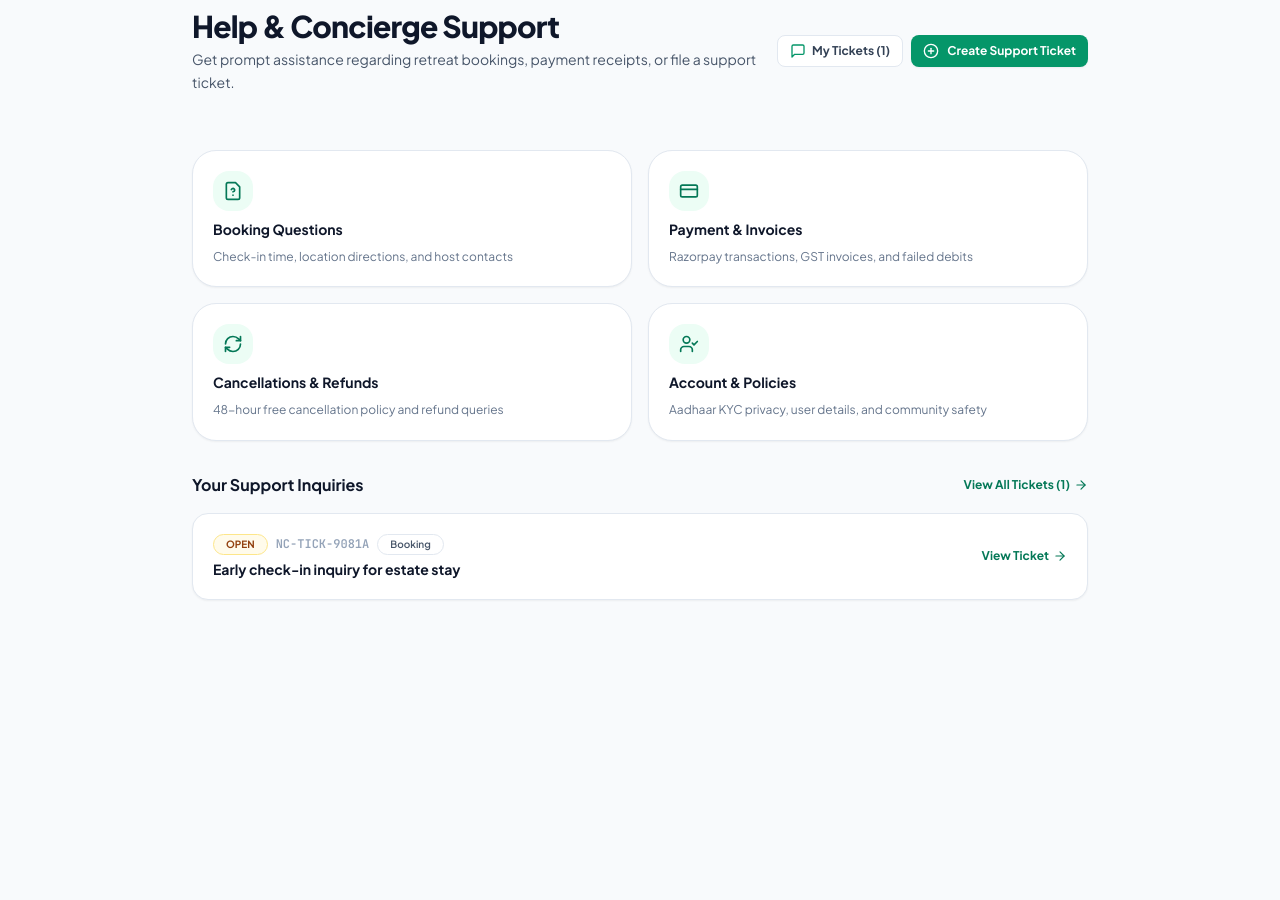
Customer Support & Tickets Suite › renders CustomerSupportHubPage and handles ticket creation
This screenshot has width=1280, height=900.
Expected: the heading "Help & Concierge Support" is shown, [192,7,559,45]
Expected: the heading "Booking Questions" is shown, [213,220,343,238]
// Toggle Create Support Ticket form
Click the button "Create Support Ticket".
click(1000, 51)  # box [911,35,1088,67]
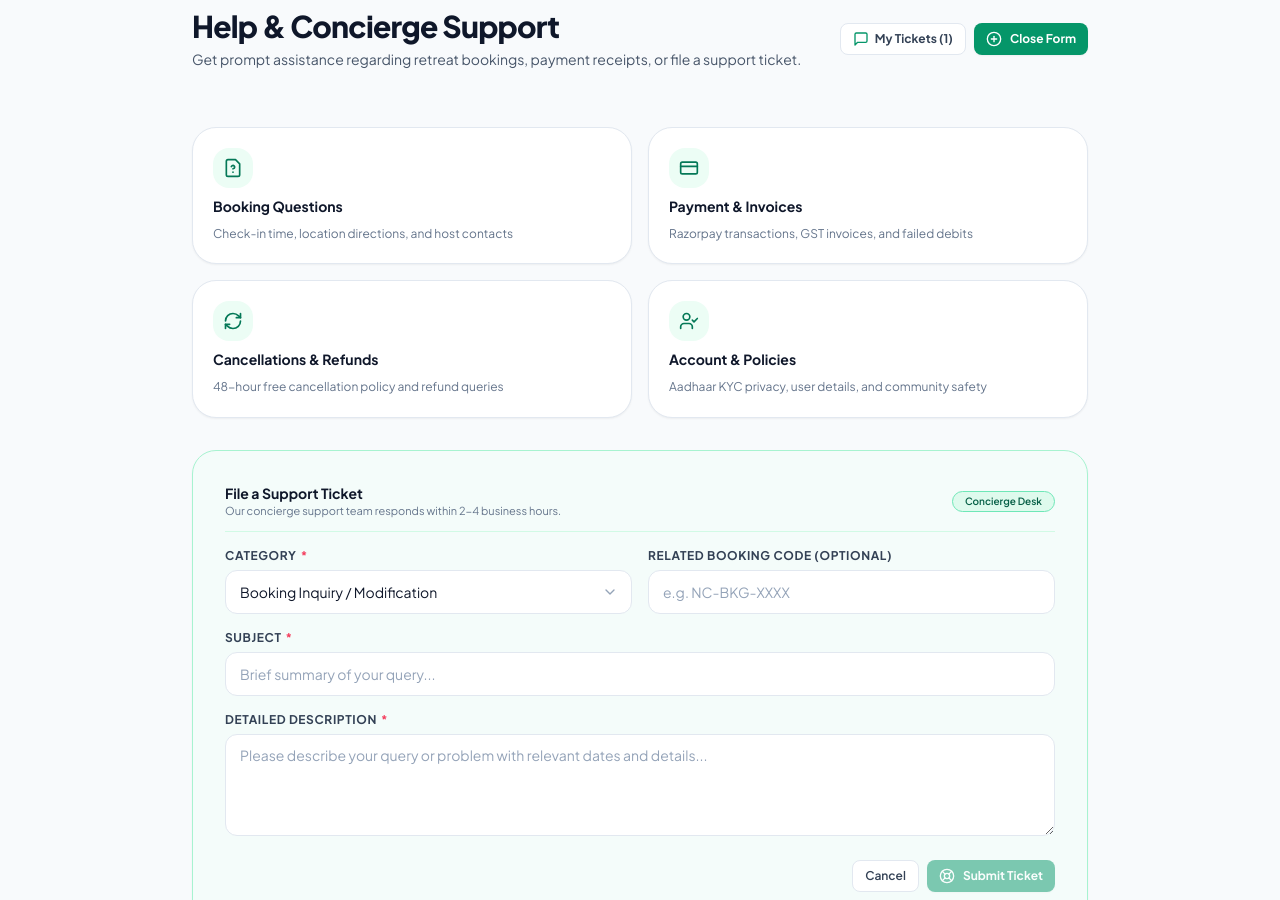
Type "WiFi speed in Heritage Cottage" into the field labelled "Subject*".
click(640, 674); type("WiFi speed in Heritage Cottage")  # box [225,652,1055,696]
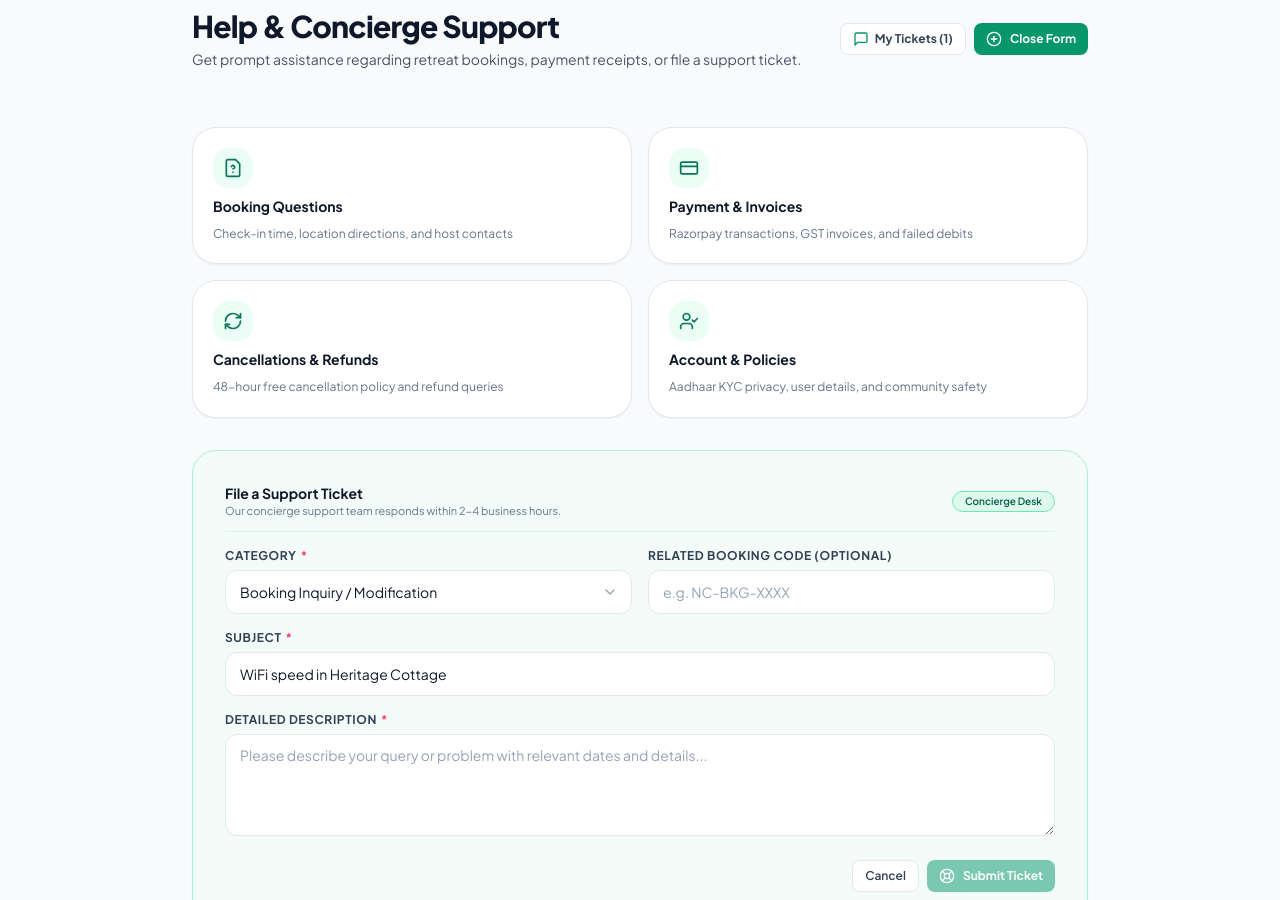
Replace the text in the text box labelled "Detailed Description*" with "Need high speed internet for remote work during stay." at coordinates (640, 785), box [225,734,1055,836]
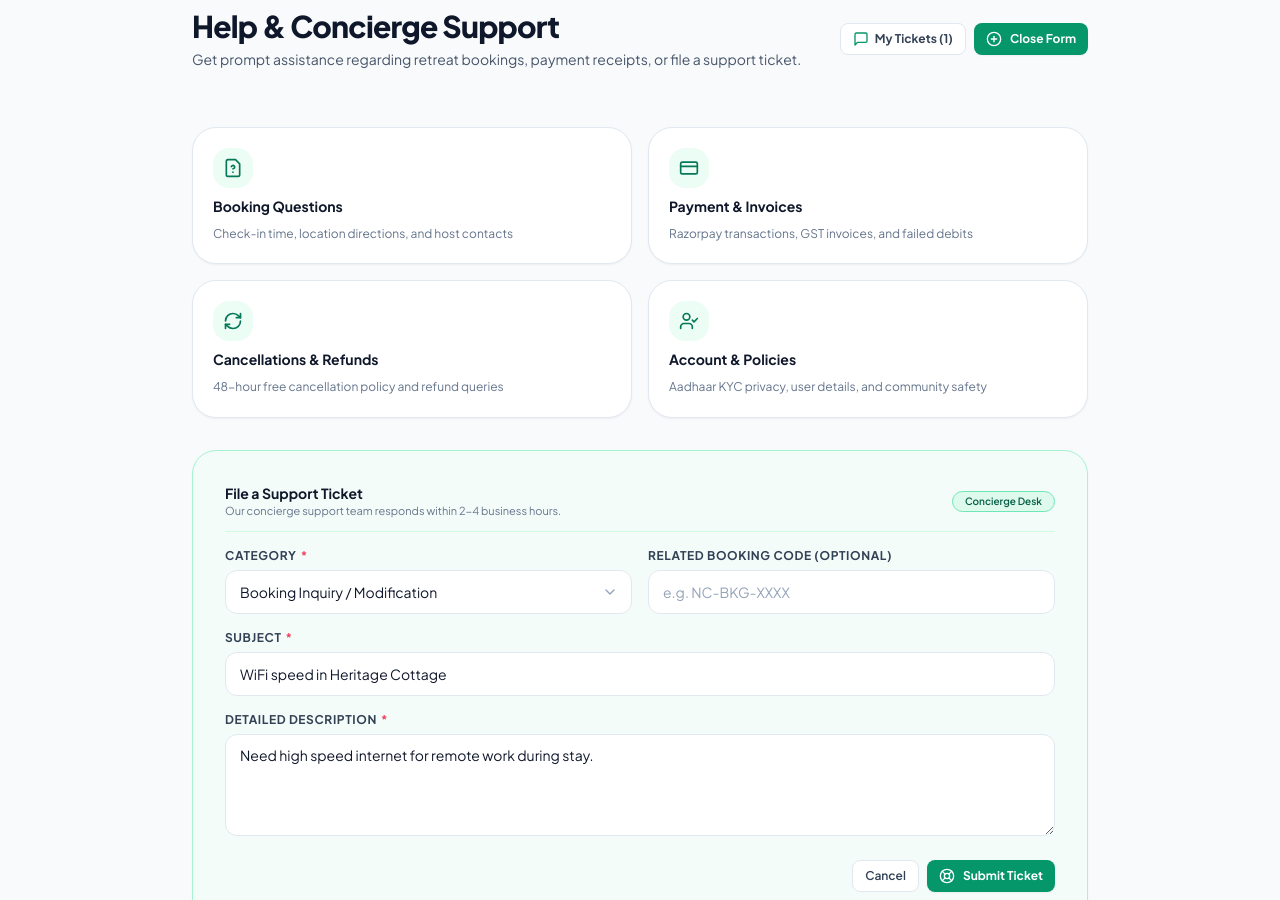
Click the button "Submit Ticket".
click(991, 876)  # box [927,860,1055,892]
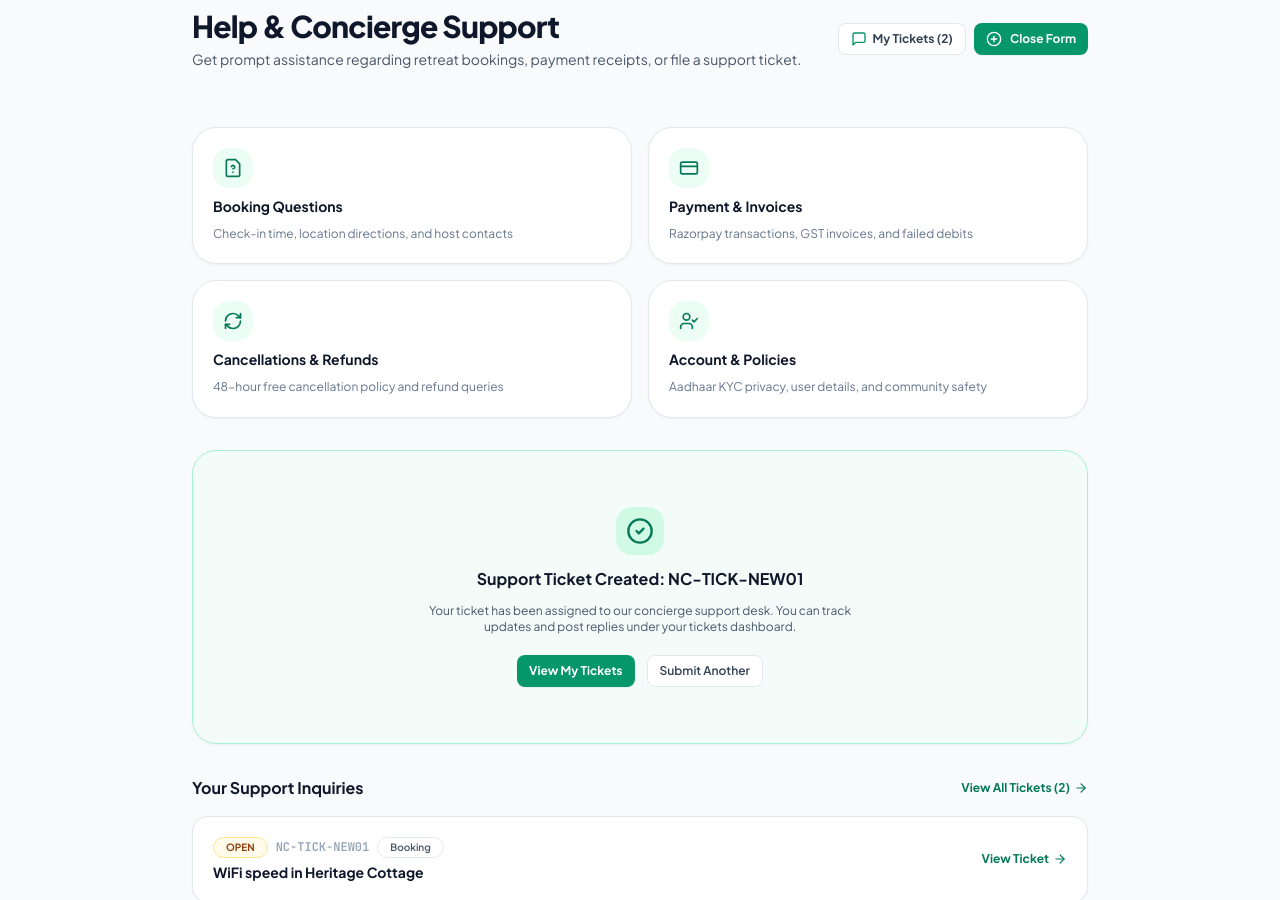
Now the heading "Support Ticket Created: NC-TICK-NEW01" is shown, box [477,568,803,589]
